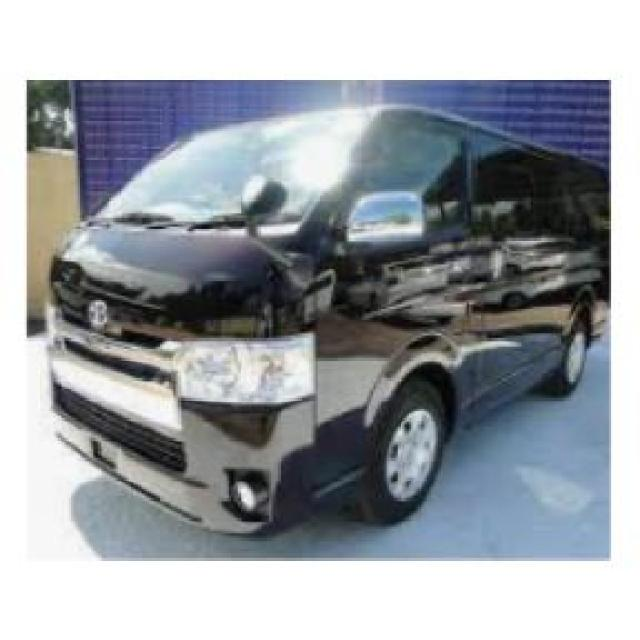Van: (47, 106, 606, 525)
